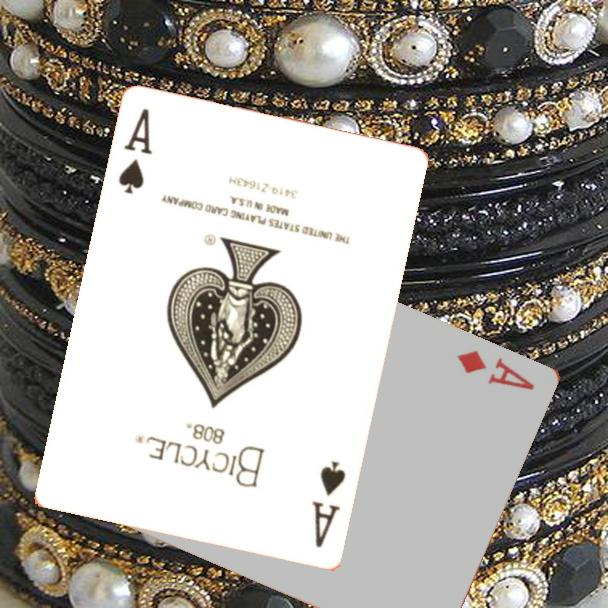d01: (453, 346, 538, 393)
s01: (115, 105, 156, 198), (309, 457, 349, 552)
